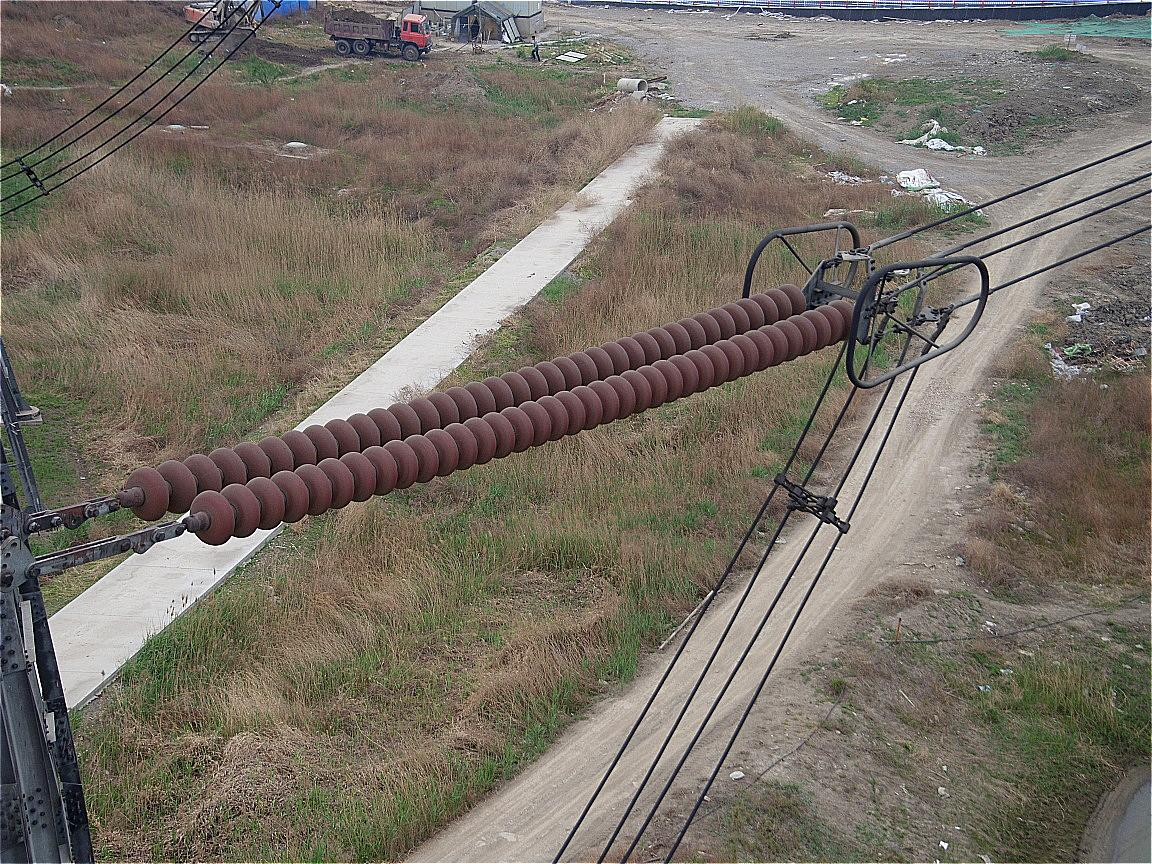insultor1: (124, 281, 858, 548)
